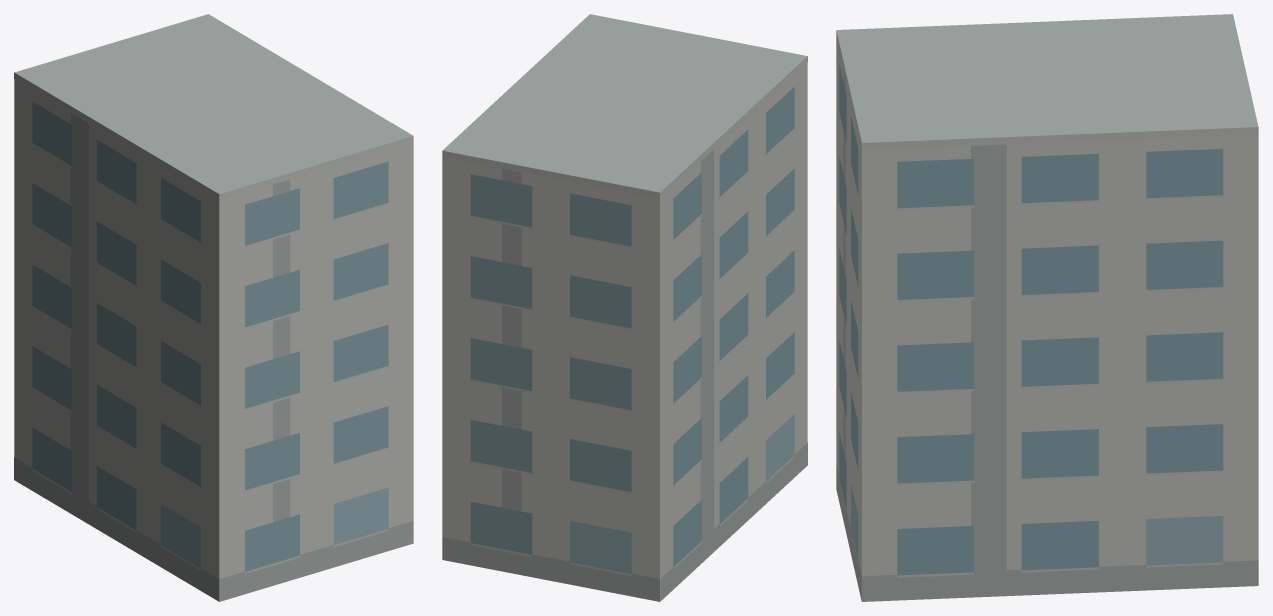
Rendered from residential-57e02fec-5599-4636-a082-783d2964b6e2.glb.
The picture shows the model from 3 angles, left to right: view 1: azimuth 30°, elevation 25°; view 2: azimuth 150°, elevation 25°; view 3: azimuth 270°, elevation 25°; orthographic projection. The views are drawn at different scales.
Parts seen in each view (by area): view 1: residential-57e02fec-5599-4636-a082-783d2964b6e2.tmp; view 2: residential-57e02fec-5599-4636-a082-783d2964b6e2.tmp; view 3: residential-57e02fec-5599-4636-a082-783d2964b6e2.tmp.
Part boxes in pixels (x1,y1,x2,y2): residential-57e02fec-5599-4636-a082-783d2964b6e2.tmp: (14, 14, 413, 601); residential-57e02fec-5599-4636-a082-783d2964b6e2.tmp: (442, 14, 807, 601); residential-57e02fec-5599-4636-a082-783d2964b6e2.tmp: (836, 14, 1258, 601).
Size of the model in its own units: 9.2 by 15.25 by 12.72.
